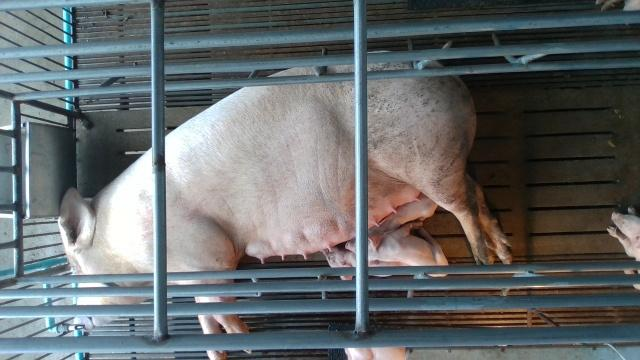piglet: (345, 223, 448, 276), (323, 248, 426, 280), (608, 206, 640, 289)
sow-sleep-lactate: (59, 50, 512, 360)
